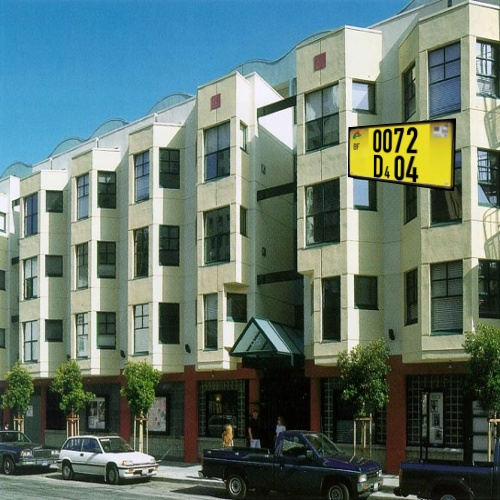plate: (334, 111, 469, 200)
